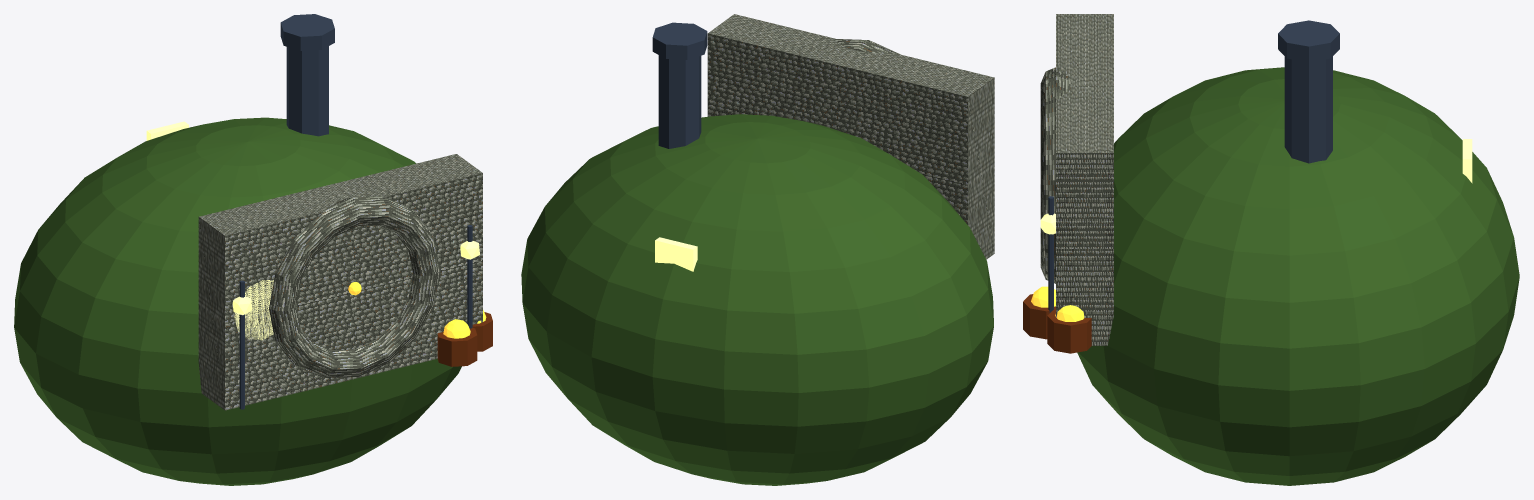
The model's file is madriguera.glb.
The picture shows the model from 3 angles, left to right: view 1: azimuth 30°, elevation 25°; view 2: azimuth 150°, elevation 25°; view 3: azimuth 270°, elevation 25°; orthographic projection. The views are drawn at different scales.
Visible parts, largest first — view 1: Sphere, Cube, Torus, Cylinder.002, Cylinder.003, Cylinder.001, Cylinder.004, Cylinder.006, Cylinder.005, Cylinder.007; view 2: Sphere, Cube, Cylinder.002, Cylinder.003, Cube.001, Torus; view 3: Sphere, Cube, Cylinder.002, Torus, Cylinder.003, Cylinder.005, Cylinder.004, Cylinder.007.
Part boxes in pixels (bbox=[...]): Sphere: bbox=[14, 117, 461, 485]; Cube: bbox=[198, 154, 482, 410]; Torus: bbox=[269, 196, 440, 377]; Cylinder.002: bbox=[286, 46, 328, 136]; Cylinder.003: bbox=[280, 14, 334, 50]; Cylinder.001: bbox=[234, 280, 273, 340]; Cylinder.004: bbox=[437, 327, 477, 366]; Cylinder.006: bbox=[239, 280, 244, 409]; Cylinder.005: bbox=[472, 312, 492, 351]; Cylinder.007: bbox=[467, 225, 472, 328]; Sphere: bbox=[521, 114, 993, 485]; Cube: bbox=[707, 14, 994, 259]; Cylinder.002: bbox=[658, 55, 701, 148]; Cylinder.003: bbox=[652, 22, 707, 59]; Cube.001: bbox=[655, 237, 697, 271]; Torus: bbox=[833, 39, 900, 54]; Sphere: bbox=[1077, 67, 1519, 485]; Cube: bbox=[1056, 14, 1113, 345]; Cylinder.002: bbox=[1284, 56, 1332, 163]; Torus: bbox=[1040, 67, 1071, 283]; Cylinder.003: bbox=[1278, 20, 1339, 62]; Cylinder.005: bbox=[1047, 309, 1091, 353]; Cylinder.004: bbox=[1023, 294, 1055, 339]; Cylinder.007: bbox=[1048, 196, 1053, 312].
Size of the model in its own units: 5.6 by 5.21 by 5.13.
Materials: 6 (1 with a texture image).
